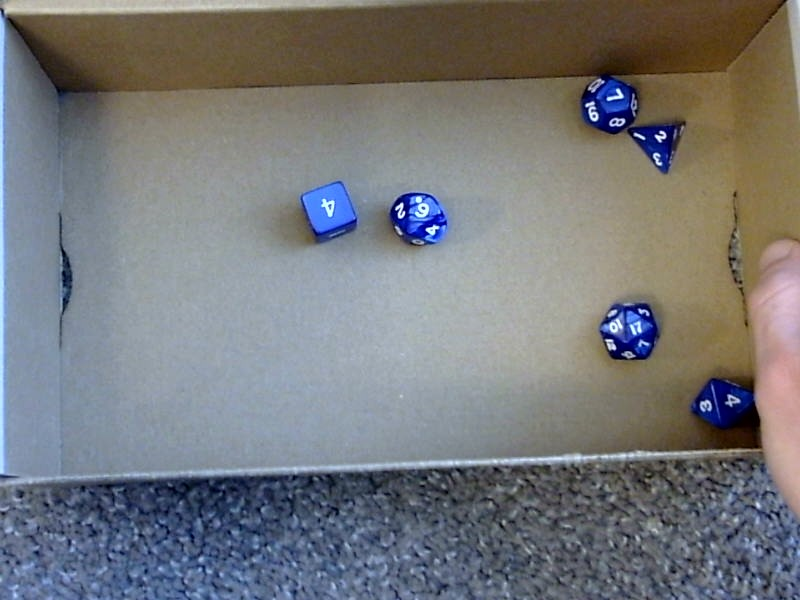d10 6: (388, 183, 449, 250)
d12 7: (572, 68, 639, 137)
d20 17: (595, 295, 659, 362)
d4 2: (626, 122, 692, 178)
d6 4: (293, 173, 361, 244)
d8 4: (687, 365, 758, 433)
